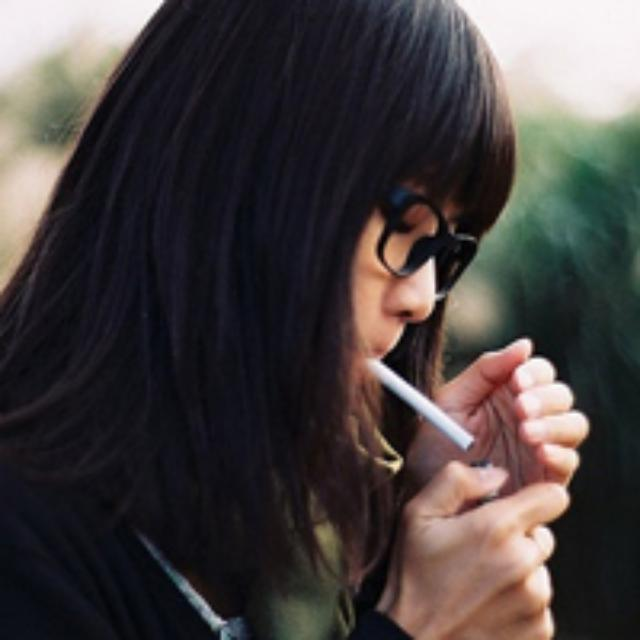Smoking: (364, 356, 480, 460)
